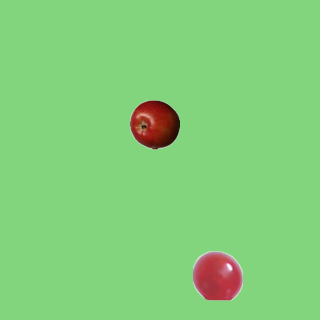Apple Braeburn: (129, 99, 179, 149)
Redcurrant: (192, 250, 242, 300)
